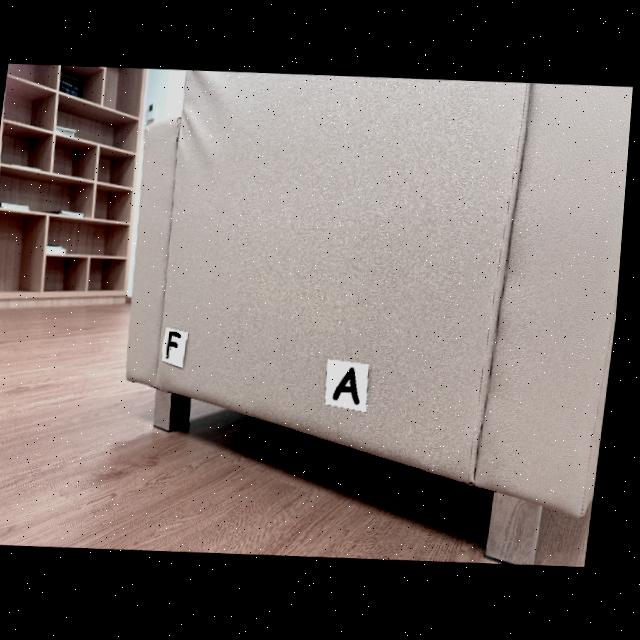F: (172, 333, 187, 360)
